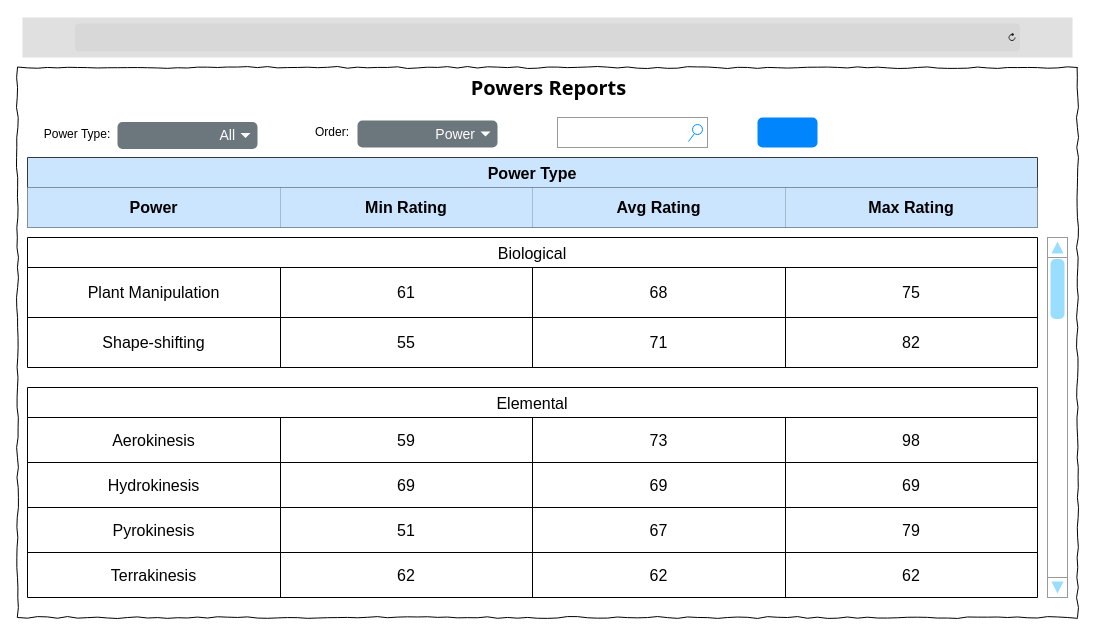
The diagram is 1095 pixels wide and 635 high, and some of its shapes have lost their labels. The centre of each missing label's shape, as x and y in pixels:
Apply: [787,132]
fourthwallacademy.com/Dashboard/Powers: [547,37]
Search: [632,132]
